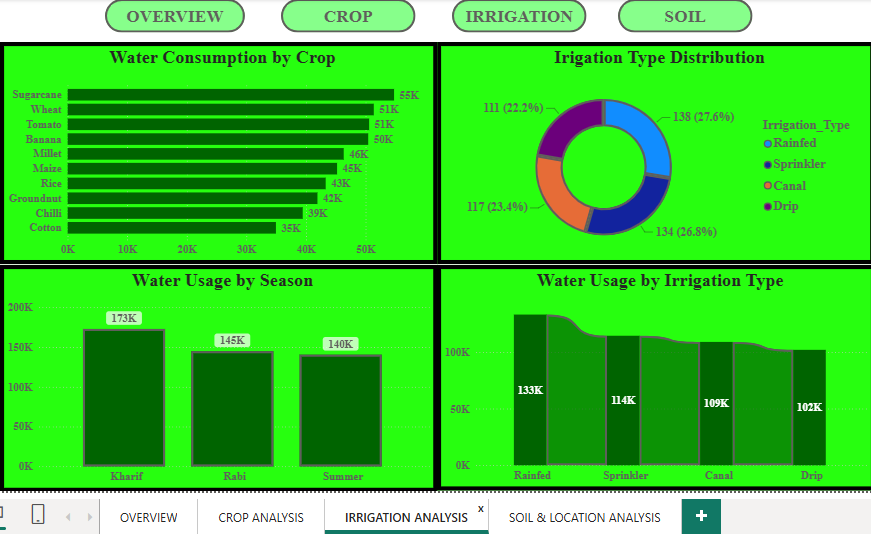

This screenshot's page, from the dashboard's own definition file:
{"tool":"powerbi","page":{"name":"IRRIGATION ANALYSIS","canvas":[1280,720],"ordinal":2},"visuals":[{"type":"donutChart","title":"Irigation Type Distribution","fields":{"Category":["Agriculture_Data.Irrigation_Type"],"Y":["CountNonNull(Agriculture_Data.Irrigation_Type)"]},"box":[639.7,63.5,639.7,325.4],"z":0},{"type":"clusteredBarChart","title":"Water Consumption by Crop","fields":{"Category":["Agriculture_Data.Crop"],"Y":["Sum(Agriculture_Data.Rainfall_mm)"]},"box":[0,63.5,639.7,325.4],"z":1000},{"type":"lineClusteredColumnComboChart","title":"Water Usage by Season","fields":{"Category":["Agriculture_Data.Season"],"Y":["Sum(Agriculture_Data.Rainfall_mm)"]},"box":[0,388.9,639.7,331.7],"z":2000},{"type":"ribbonChart","title":"Water Usage by Irrigation Type","fields":{"Category":["Agriculture_Data.Irrigation_Type"],"Y":["Sum(Agriculture_Data.Rainfall_mm)"]},"box":[639.7,388.9,641.3,330.2],"z":3000},{"type":"actionButton","box":[154,0,204.8,49.2],"z":4000},{"type":"actionButton","box":[411.1,0,196.8,49.2],"z":5000},{"type":"actionButton","box":[661.9,0,196.8,49.2],"z":6000},{"type":"actionButton","box":[904.8,0,196.8,49.2],"z":7000}]}

Visuals, with their boxes on the page's 1280x720 design canvas (x1, y1, x2, y2). These are canvas units, not pixel positions in the 871x534 screenshot, which may show the page scaled, cropped or inside an application window:
"Irigation Type Distribution" donutChart: left=640, top=64, right=1279, bottom=389
"Water Consumption by Crop" clusteredBarChart: left=0, top=64, right=640, bottom=389
"Water Usage by Season" lineClusteredColumnComboChart: left=0, top=389, right=640, bottom=721
"Water Usage by Irrigation Type" ribbonChart: left=640, top=389, right=1281, bottom=719
actionButton: left=154, top=0, right=359, bottom=49
actionButton: left=411, top=0, right=608, bottom=49
actionButton: left=662, top=0, right=859, bottom=49
actionButton: left=905, top=0, right=1102, bottom=49
